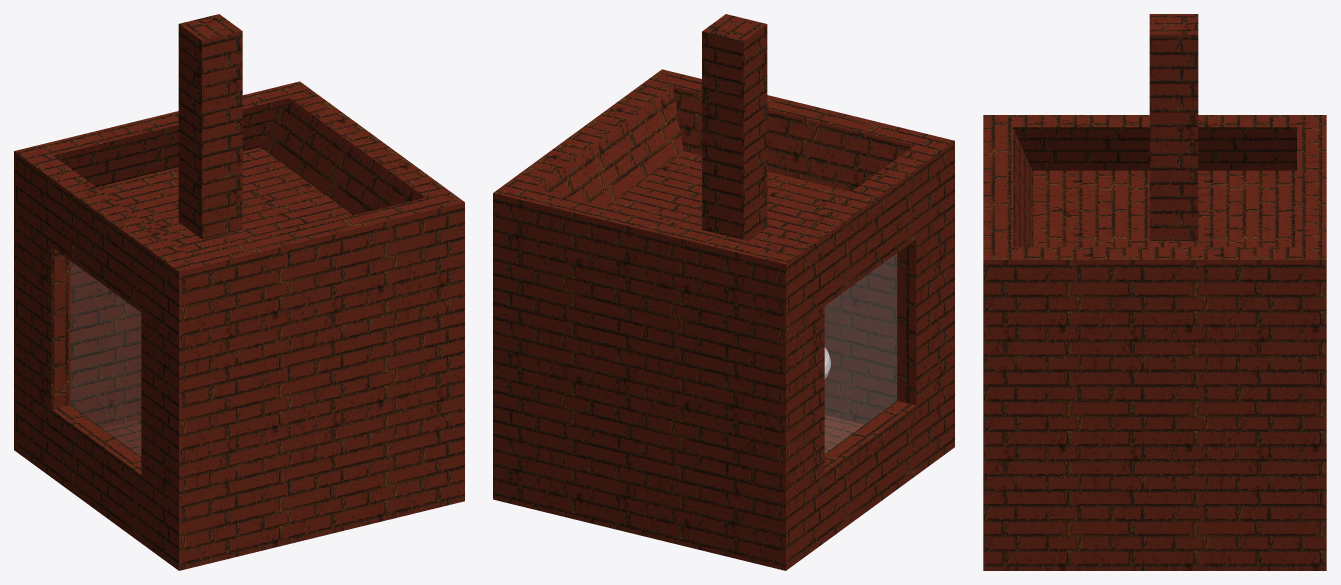
The model's file is trans problem.fbx.
3 views of the same model, side by side, from view 1: azimuth 30°, elevation 25°; view 2: azimuth 150°, elevation 25°; view 3: azimuth 270°, elevation 25° (orthographic). The views are drawn at different scales.
Visible parts, largest first — view 1: Cube; view 2: Cube; view 3: Cube.
Part boxes in pixels (<box>): Cube: <box>14,14,464,570</box>; Cube: <box>493,14,954,570</box>; Cube: <box>983,14,1326,570</box>.
Bounding box in the file's own units: 2 × 2.98 × 2.
Materials: 2 (1 with a texture image).
